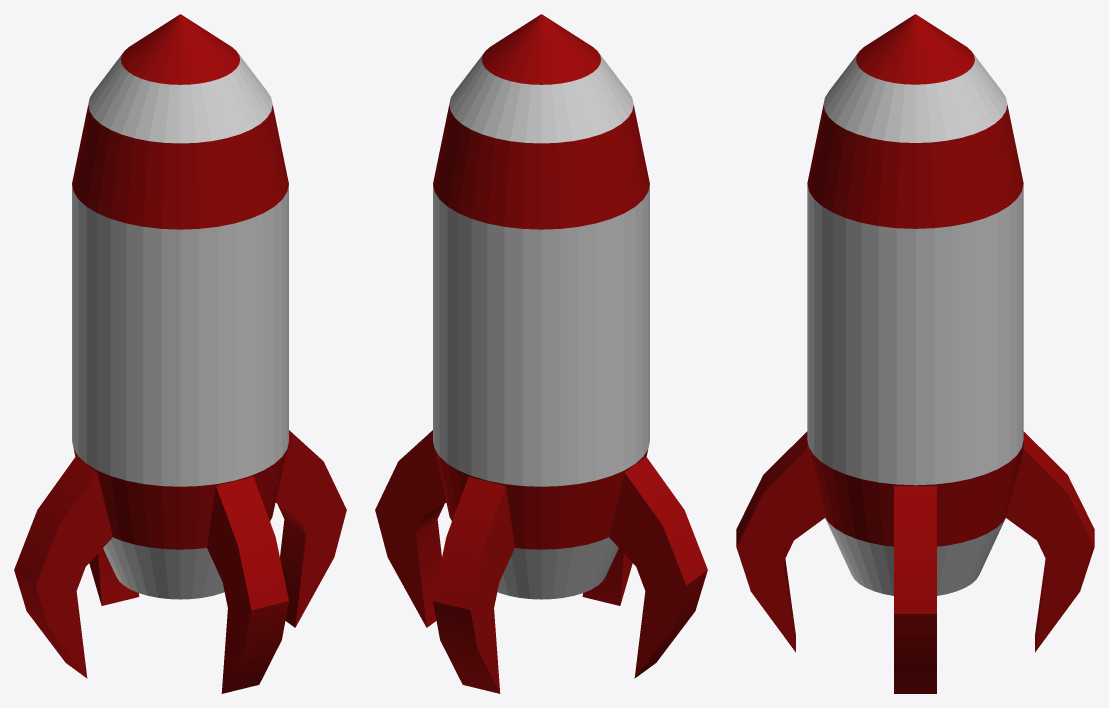
File: Rocket3.fbx
3 views of the same model, side by side, from view 1: azimuth 30°, elevation 25°; view 2: azimuth 150°, elevation 25°; view 3: azimuth 270°, elevation 25° (orthographic).
Parts seen in each view (by area): view 1: Cylinder, Leg_1, Leg_2, Leg_1_2, Leg; view 2: Cylinder, Leg, Leg_2, Leg_1_2, Leg_1; view 3: Cylinder, Leg_1, Leg, Leg_1_2.
Part boxes in pixels (<box>): Cylinder: <box>72,14,288,599</box>; Leg_1: <box>207,476,288,693</box>; Leg_2: <box>14,456,112,678</box>; Leg_1_2: <box>275,430,346,627</box>; Leg: <box>89,548,139,605</box>; Cylinder: <box>433,14,649,599</box>; Leg: <box>433,476,514,693</box>; Leg_2: <box>609,456,707,678</box>; Leg_1_2: <box>375,430,446,627</box>; Leg_1: <box>582,548,632,605</box>; Cylinder: <box>807,14,1023,595</box>; Leg_1: <box>736,431,825,652</box>; Leg: <box>1005,431,1094,652</box>; Leg_1_2: <box>894,486,936,693</box>.
Bounding box in the file's own units: 166 × 321 × 166.
